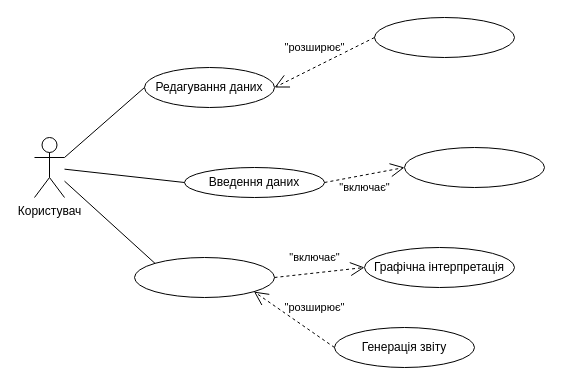
This 562x385 diagram has some shape labels left out. The centre of each missing label's shape, as x and y in pixels:
"Виконання обчислень" belongs at point 204,277.
"Запис в XML-файл" belongs at point 444,37.
"Читання з XML-файлу" belongs at point 474,167.
